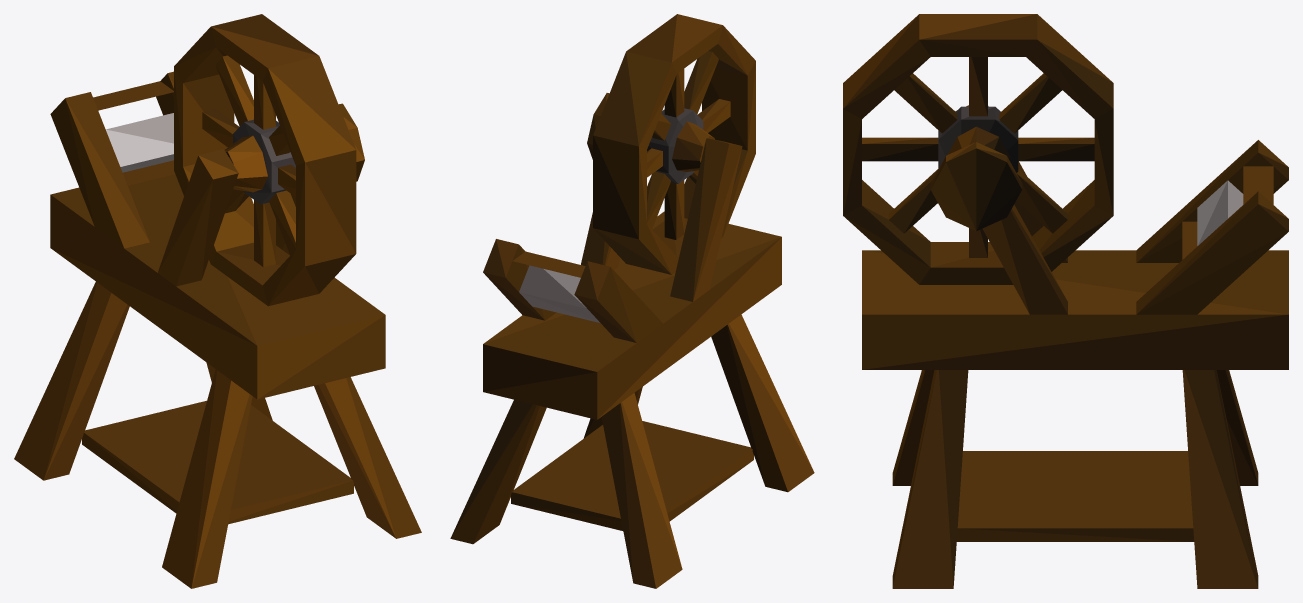
File: wheel.obj
3 renders of one model, left to right at view 1: azimuth 30°, elevation 25°; view 2: azimuth 150°, elevation 25°; view 3: azimuth 270°, elevation 25°, orthographic. The views are drawn at different scales.
Visible parts, largest first — view 1: Object Spinning wheel 2026-09-13_17-09-02, spin_wheel; view 2: Object Spinning wheel 2026-09-13_17-09-02, spin_wheel; view 3: Object Spinning wheel 2026-09-13_17-09-02, spin_wheel.
Part boxes in pixels (x1,y1,x2,y2): Object Spinning wheel 2026-09-13_17-09-02: (14,71,421,588); spin_wheel: (174,14,356,306); Object Spinning wheel 2026-09-13_17-09-02: (450,93,814,588); spin_wheel: (593,14,755,274); Object Spinning wheel 2026-09-13_17-09-02: (862,105,1288,588); spin_wheel: (843,14,1113,284).
Bounding box in the file's own units: 72 × 146 × 117.
